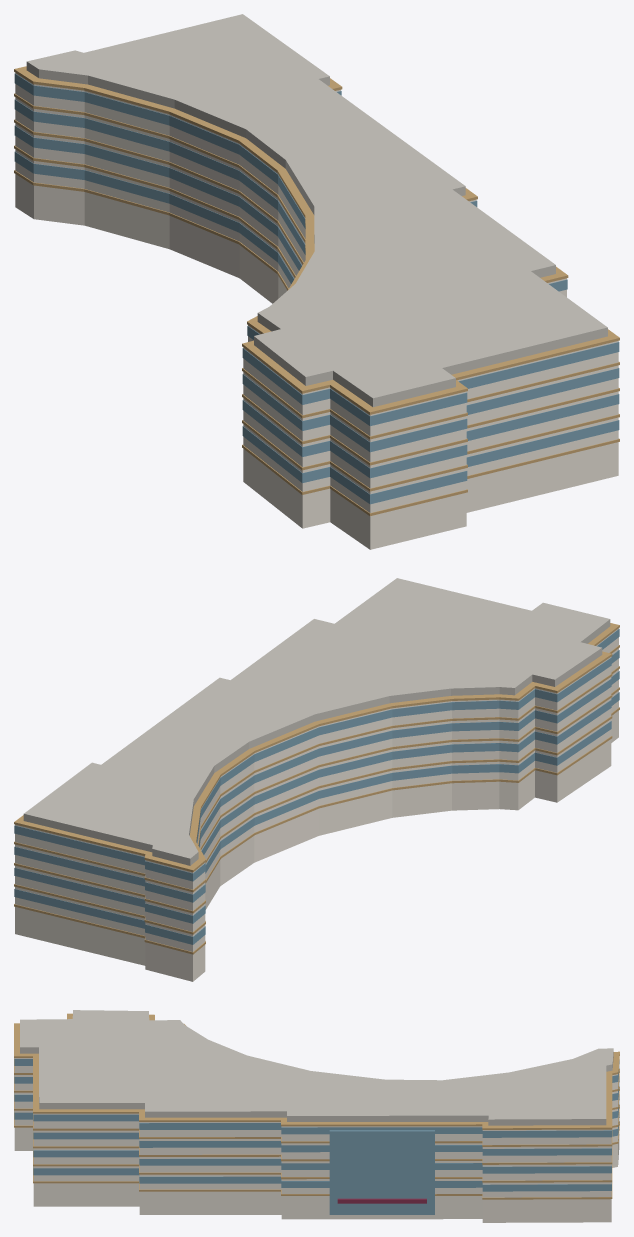
File: hanshin-intercontinental.glb
The picture shows the model from 3 angles, top to bottom: view 1: azimuth 30°, elevation 25°; view 2: azimuth 150°, elevation 25°; view 3: azimuth 270°, elevation 25°; orthographic projection. The views are drawn at different scales.
Parts seen in each view (by area): view 1: hanshin-intercontinental; view 2: hanshin-intercontinental; view 3: hanshin-intercontinental.
Boxes of the visible parts, box(x1,y1,x2,y2) form: hanshin-intercontinental: box(14, 14, 619, 549); hanshin-intercontinental: box(14, 578, 619, 981); hanshin-intercontinental: box(14, 1010, 619, 1222).
Size of the model in its own units: 124 by 50.8 by 276.
